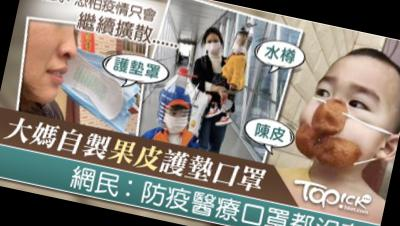with_mask: (291, 68, 396, 179), (158, 103, 193, 135), (203, 35, 224, 57), (231, 35, 252, 57)
without_mask: (13, 15, 84, 109)
